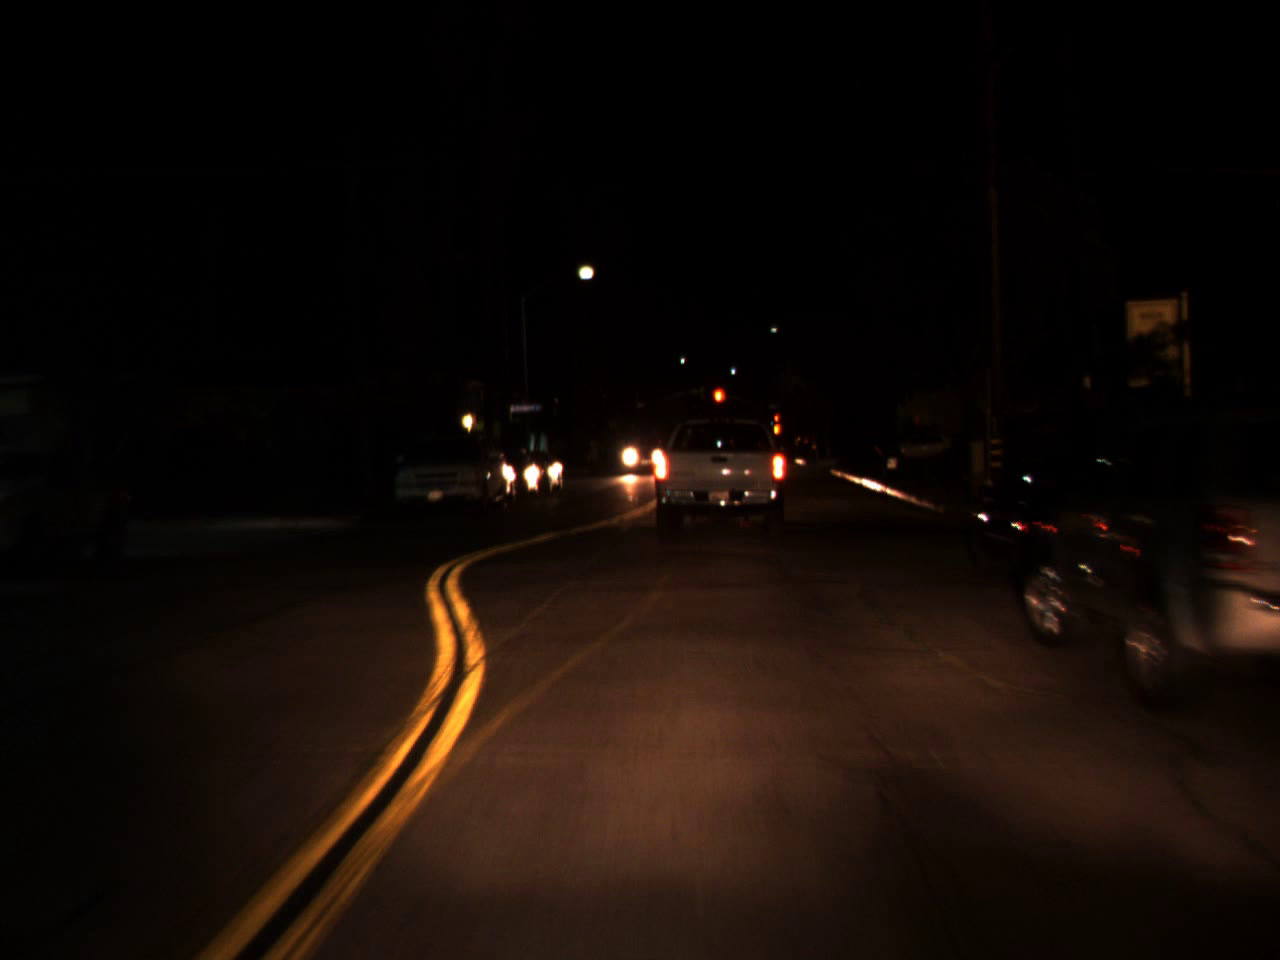stop: (711, 385, 726, 419), (773, 414, 779, 427)
